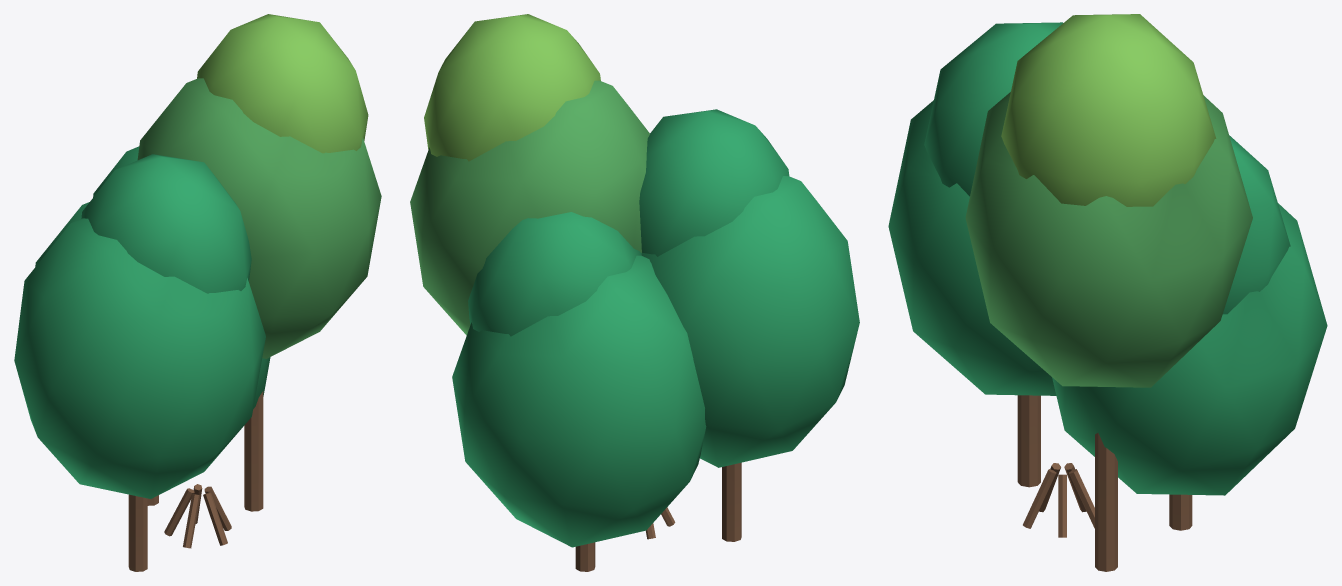
File: tree-thicket.glb
3 views of the same model, side by side, from view 1: azimuth 30°, elevation 25°; view 2: azimuth 150°, elevation 25°; view 3: azimuth 270°, elevation 25° (orthographic). The views are drawn at different scales.
Visible parts, largest first — view 1: rounded crown, rounded crown.002, rounded crown.003, branch; view 2: rounded crown, rounded crown.002, rounded crown.003, branch; view 3: rounded crown, rounded crown.002, rounded crown.003, branch.
Part boxes in pixels (<box>): rounded crown: <box>14,146,270,498</box>; rounded crown.002: <box>137,78,381,358</box>; rounded crown.003: <box>197,14,368,153</box>; branch: <box>128,391,263,571</box>; rounded crown: <box>452,109,859,547</box>; rounded crown.002: <box>410,80,649,335</box>; rounded crown.003: <box>424,14,600,161</box>; branch: <box>575,462,741,571</box>; rounded crown: <box>888,22,1327,495</box>; rounded crown.002: <box>965,92,1252,387</box>; rounded crown.003: <box>1001,14,1216,206</box>; branch: <box>1017,395,1192,571</box>.
Size of the model in its own units: 1.9 by 2.43 by 1.71.
